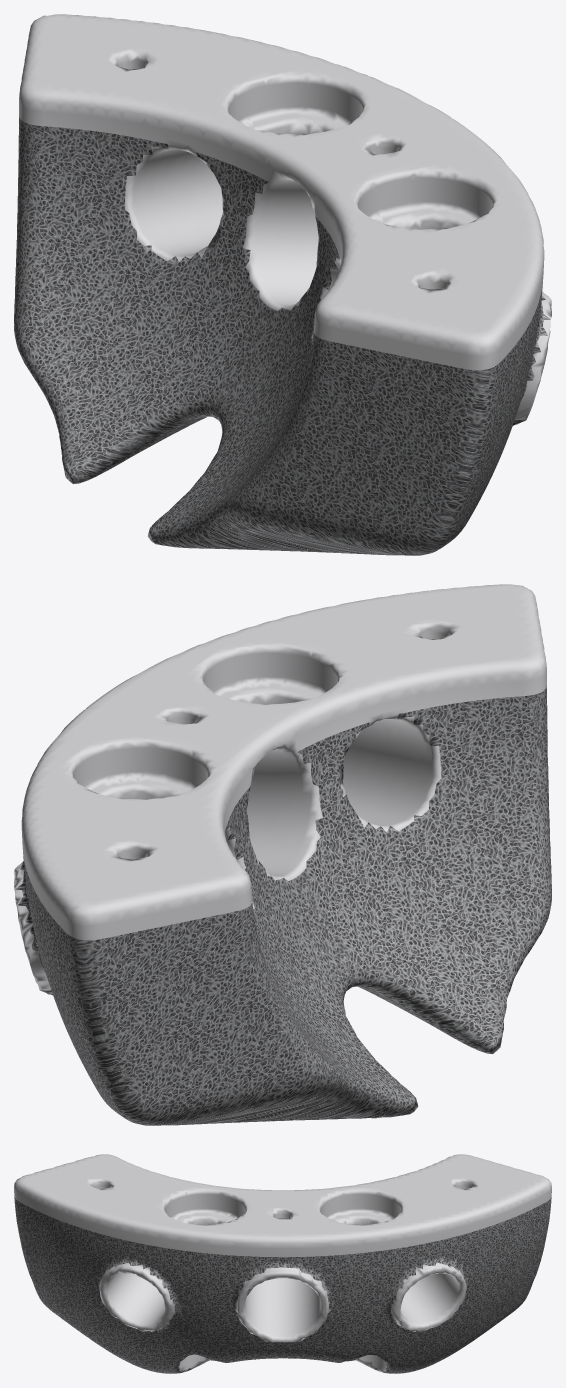
Rendered from augment-3dtf.glb.
3 views of the same model, one above another, from view 1: azimuth 30°, elevation 25°; view 2: azimuth 150°, elevation 25°; view 3: azimuth 270°, elevation 25° (orthographic). The views are drawn at different scales.
Visible parts, largest first — view 1: augment; view 2: augment; view 3: augment.
Boxes of the visible parts, x1=… form: augment: x1=14, y1=14, x2=551, y2=555; augment: x1=14, y1=584, x2=551, y2=1125; augment: x1=14, y1=1154, x2=551, y2=1373.
Size of the model in its own units: 0.0319 by 0.025 by 0.0666.
Materials: 2 (1 with a texture image).
